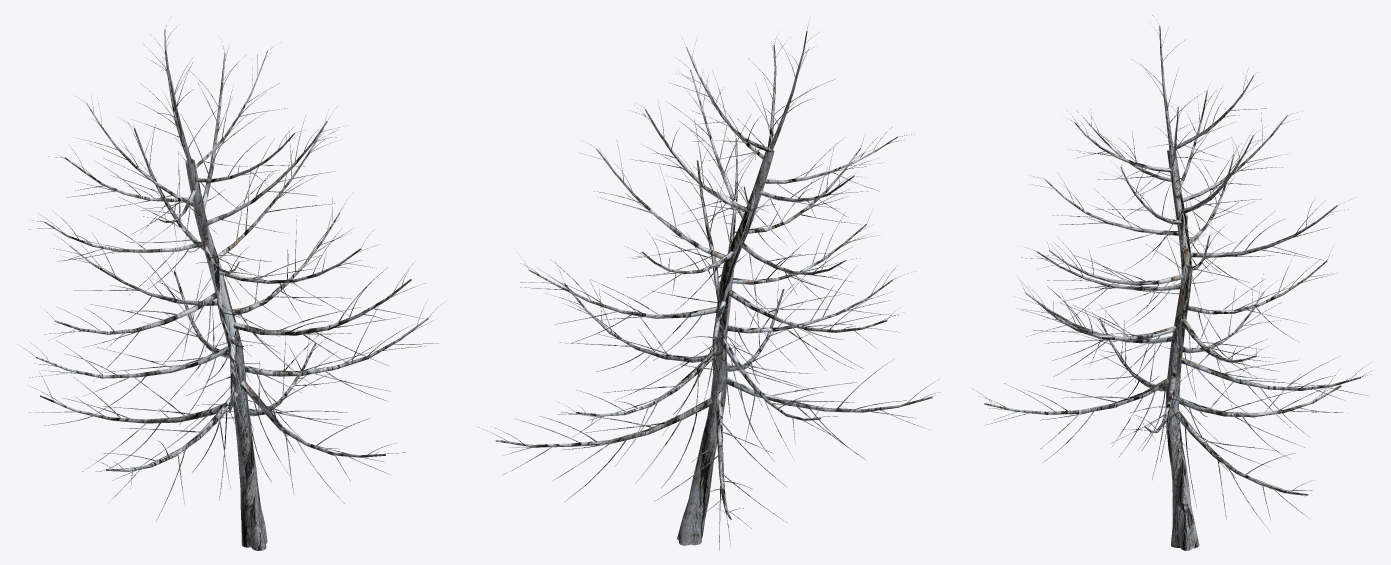
Rendered from tree.FBX.
3 views of the same model, side by side, from view 1: azimuth 30°, elevation 25°; view 2: azimuth 150°, elevation 25°; view 3: azimuth 270°, elevation 25° (orthographic). The views are drawn at different scales.
Visible parts, largest first — view 1: Foliage001; view 2: Foliage001; view 3: Foliage001.
Boxes of the visible parts, bbox=[...] form: Foliage001: bbox=[19, 21, 445, 550]; Foliage001: bbox=[478, 20, 940, 550]; Foliage001: bbox=[972, 15, 1371, 550].
Bounding box in the file's own units: 284 × 389 × 295.
1 material, 1 textured.
